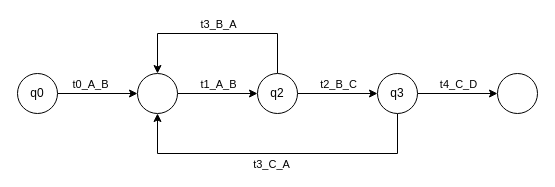
Some shapes in this 555 by 187 pixel diagram are drawn without their labels. The shapes that lost their labels are listed below. From the top down, each one's centre as x and y in pixels, then its label:
(157,93): q1
(517,93): q4
